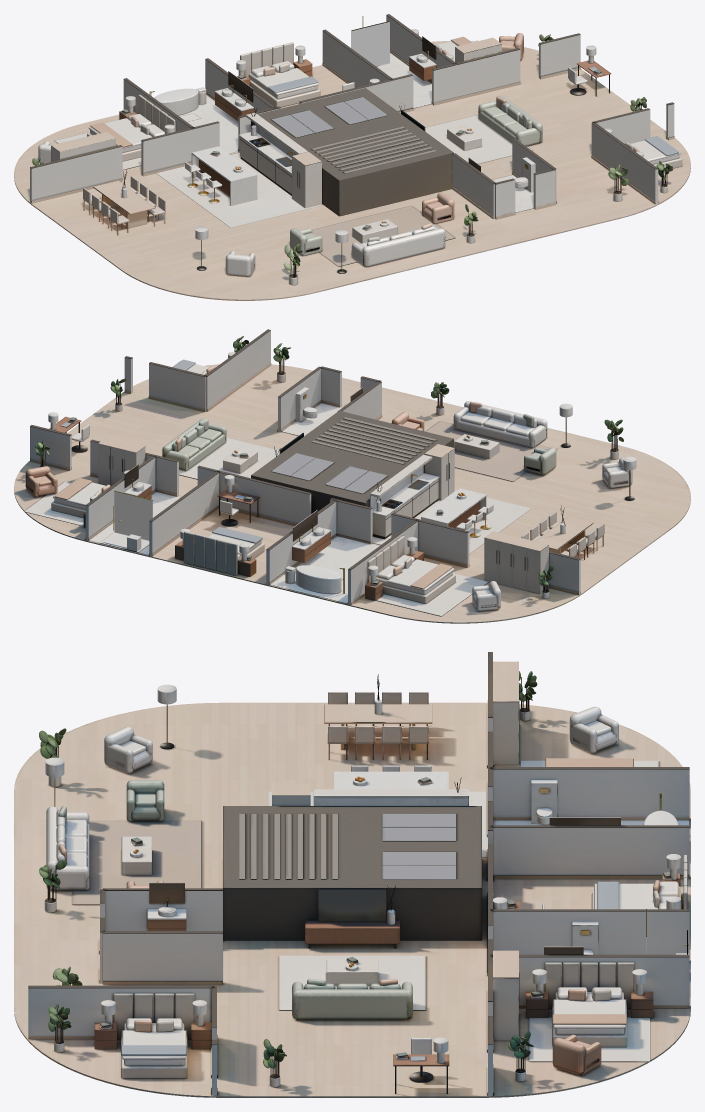
The model's file is full.glb.
3 renders of one model, top to bottom at view 1: azimuth 30°, elevation 25°; view 2: azimuth 150°, elevation 25°; view 3: azimuth 270°, elevation 25°, orthographic. The views are drawn at different scales.
Parts seen in each view (by area): view 1: residence, glass; view 2: residence, glass; view 3: residence.
Boxes of the visible parts, box(x1,y1,x2,y2) form: residence: box(14, 14, 690, 300); glass: box(351, 21, 389, 65); residence: box(14, 329, 690, 623); glass: box(114, 491, 152, 540); residence: box(14, 652, 690, 1097).
Bounding box in the file's own units: 21.6 × 1.96 × 15.7.
2 materials, 1 textured.
